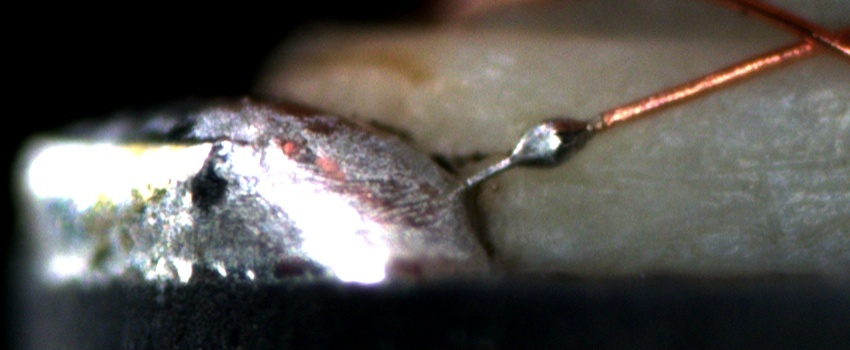CL: (771, 9, 846, 63)
DL: (538, 145, 850, 209)
TB: (512, 111, 605, 179)
TS: (464, 116, 603, 186)
TTCW: (457, 94, 658, 189)
